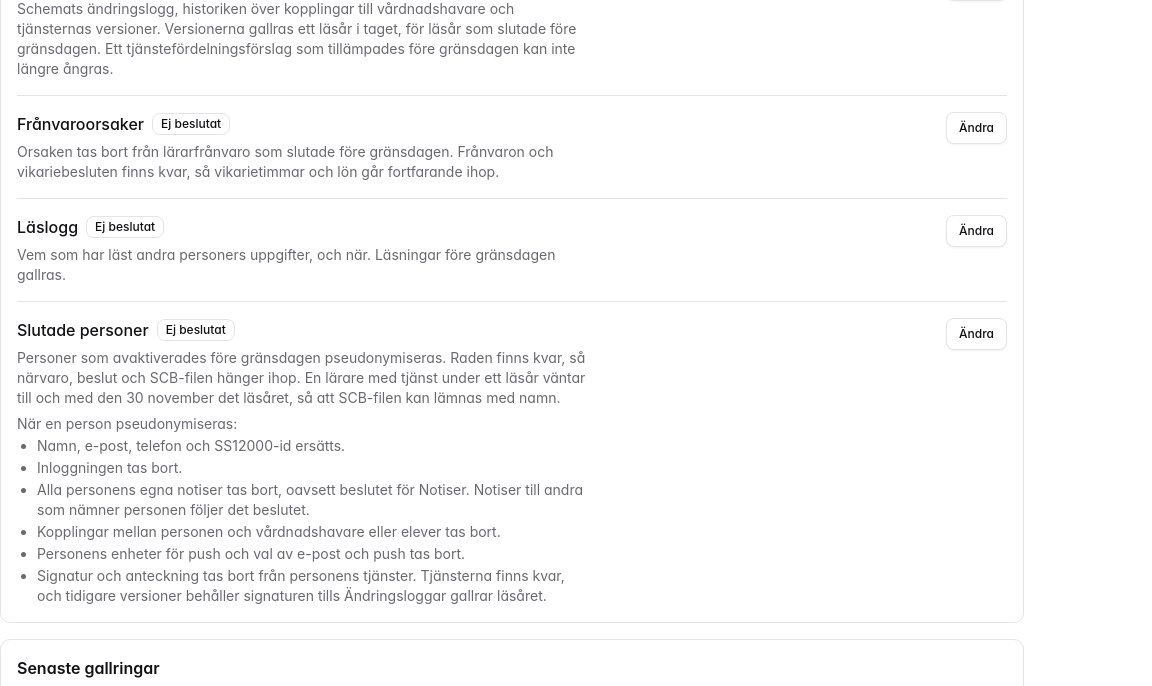
Test: /admin/dataskydd › says everything pseudonymising a person does, on the page and beside the count, own notices whatever Notiser says
This screenshot has width=1152, height=686.
(page scrolled)
Check: the text "väntar till och med den 30 november det läsåret" is shown, box [17, 349, 585, 406]
Check: the list items read "Namn, e-post, telefon och SS12000-id ersätts.", "Inloggningen tas bort.", "Alla personens egna notiser tas bort, oavsett beslutet för Notiser. Notiser till andra som nämner personen följer det beslutet.", "Kopplingar mellan personen och vårdnadshavare eller elever tas bort.", "Personens enheter för push och val av e-post och push tas bort.", "Signatur och anteckning tas bort från personens tjänster. Tjänsterna finns kvar, och tidigare versioner behåller signaturen tills Ändringsloggar gallrar läsåret", in this order, box [37, 437, 345, 454]; [37, 459, 182, 476]; [37, 480, 591, 520]; [37, 523, 501, 540]; [37, 545, 465, 562]; [37, 566, 591, 606]
Click the button with aria-label "Ändra gallringsperioden för Slutade personer": (976, 334) [946, 318, 1007, 350]
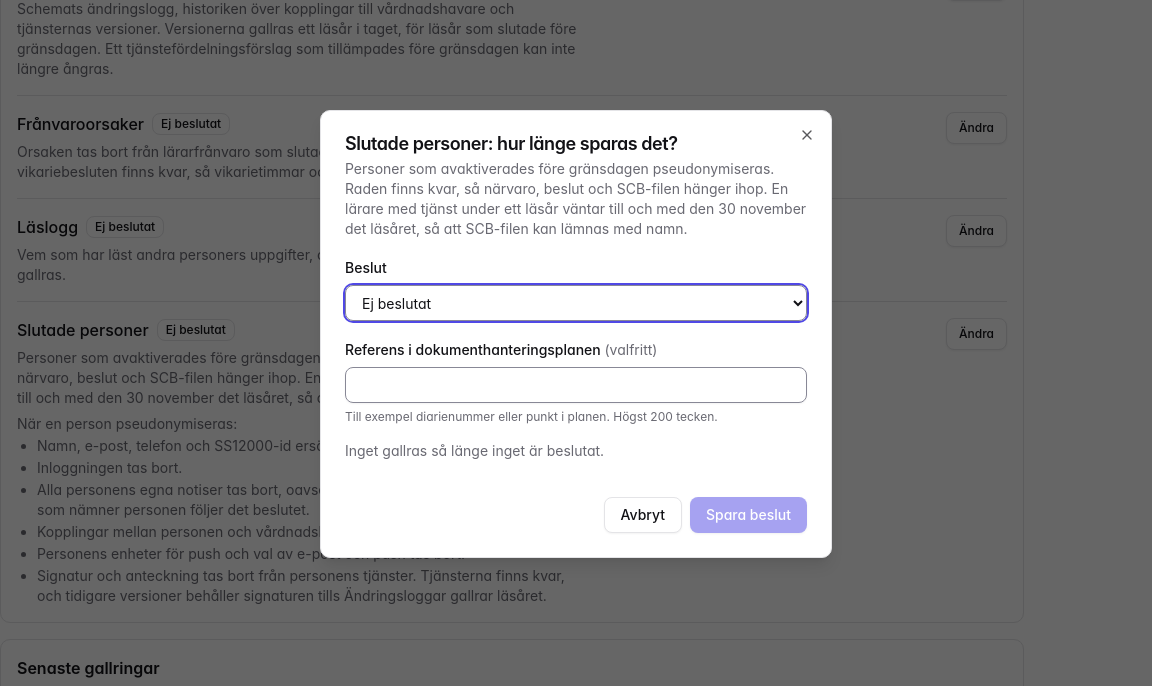
// Bevaras pseudonymises nobody, so says nothing of it.
Select "Bevaras (gallras inte)" in the dropdown labelled "Beslut": (576, 303) [345, 285, 807, 321]
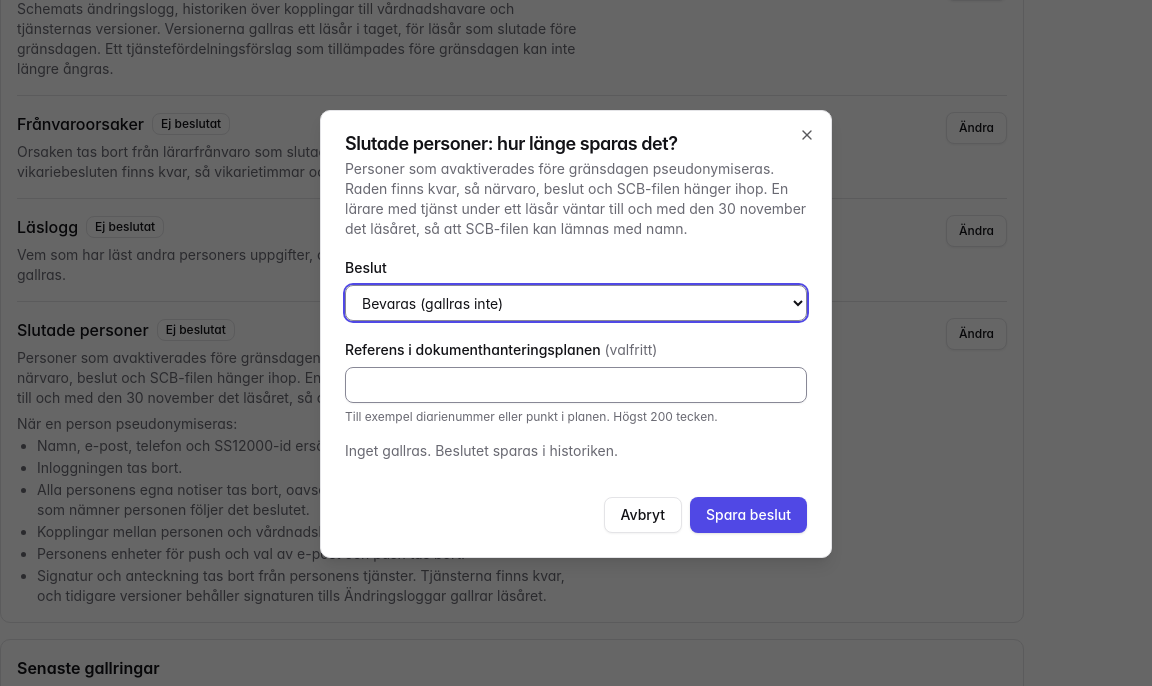
Select "Pseudonymiseras efter 1 år" in the dropdown labelled "Beslut": (576, 303) [345, 285, 807, 321]
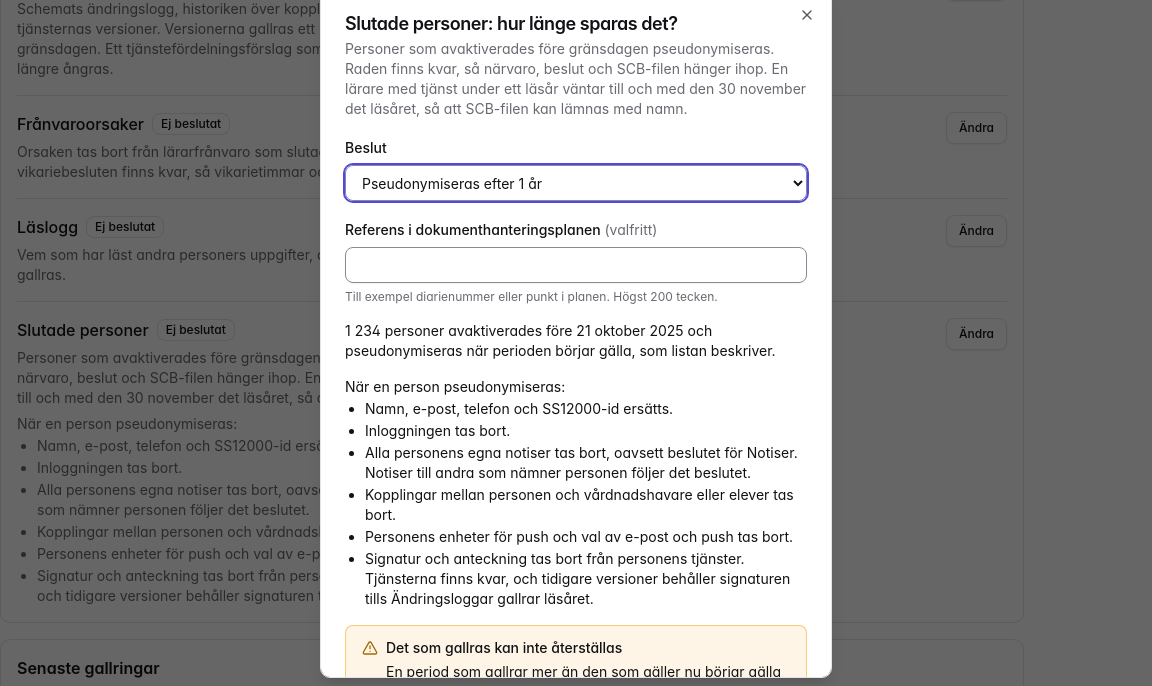
Check: the list items read "Namn, e-post, telefon och SS12000-id ersätts.", "Inloggningen tas bort.", "Alla personens egna notiser tas bort, oavsett beslutet för Notiser. Notiser till andra som nämner personen följer det beslutet.", "Kopplingar mellan personen och vårdnadshavare eller elever tas bort.", "Personens enheter för push och val av e-post och push tas bort.", "Signatur och anteckning tas bort från personens tjänster. Tjänsterna finns kvar, och tidigare versioner behåller signaturen tills Ändringsloggar gallrar läsåret", in this order, box [365, 400, 673, 417]; [365, 422, 510, 439]; [365, 443, 807, 483]; [365, 485, 807, 525]; [365, 527, 807, 547]; [365, 549, 807, 609]
